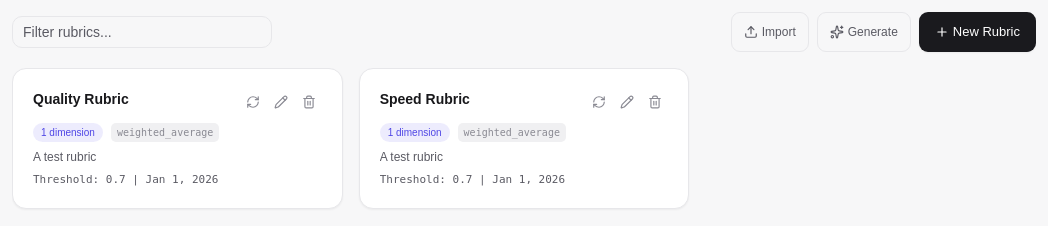
RubricList › filters rubrics by name
The image size is (1048, 226).
Type "Quality" into the field with placeholder "Filter rubrics...". click: (142, 32)
box: [12, 16, 272, 48]
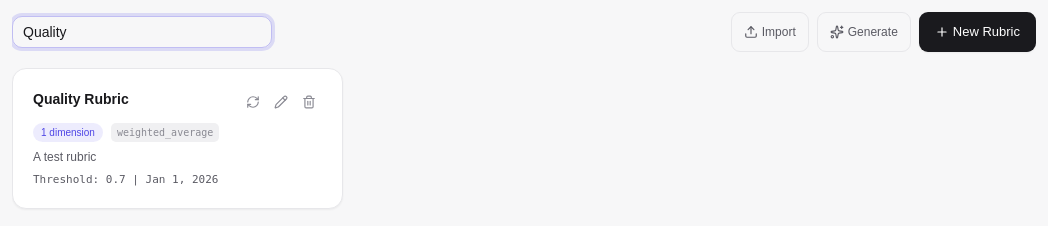
Expected: the heading "Quality Rubric" is shown, [33, 90, 129, 106]
Result: the heading "Speed Rubric" is gone
